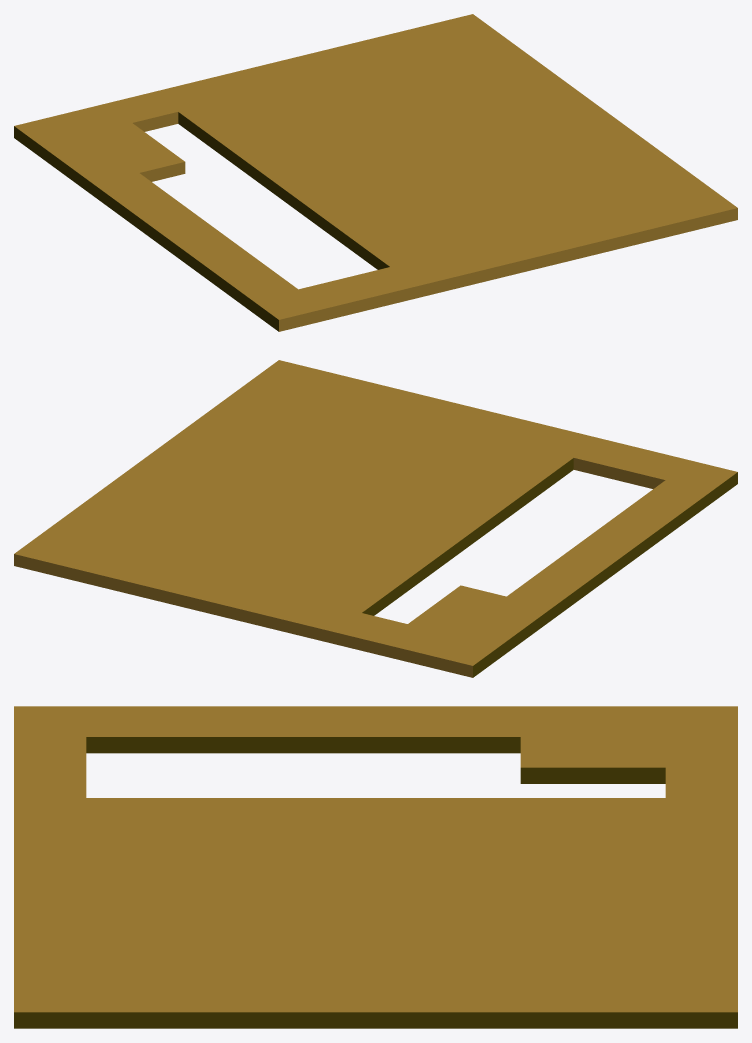
File: cubo_5.FBX
3 renders of one model, top to bottom at view 1: azimuth 30°, elevation 25°; view 2: azimuth 150°, elevation 25°; view 3: azimuth 270°, elevation 25°, orthographic. The views are drawn at different scales.
Parts seen in each view (by area): view 1: Box001; view 2: Box001; view 3: Box001.
Part boxes in pixels (bbox=[...]): Box001: bbox=[14, 14, 737, 331]; Box001: bbox=[14, 360, 737, 677]; Box001: bbox=[14, 706, 737, 1028].
Size of the model in its own units: 10 by 0.25 by 10.
